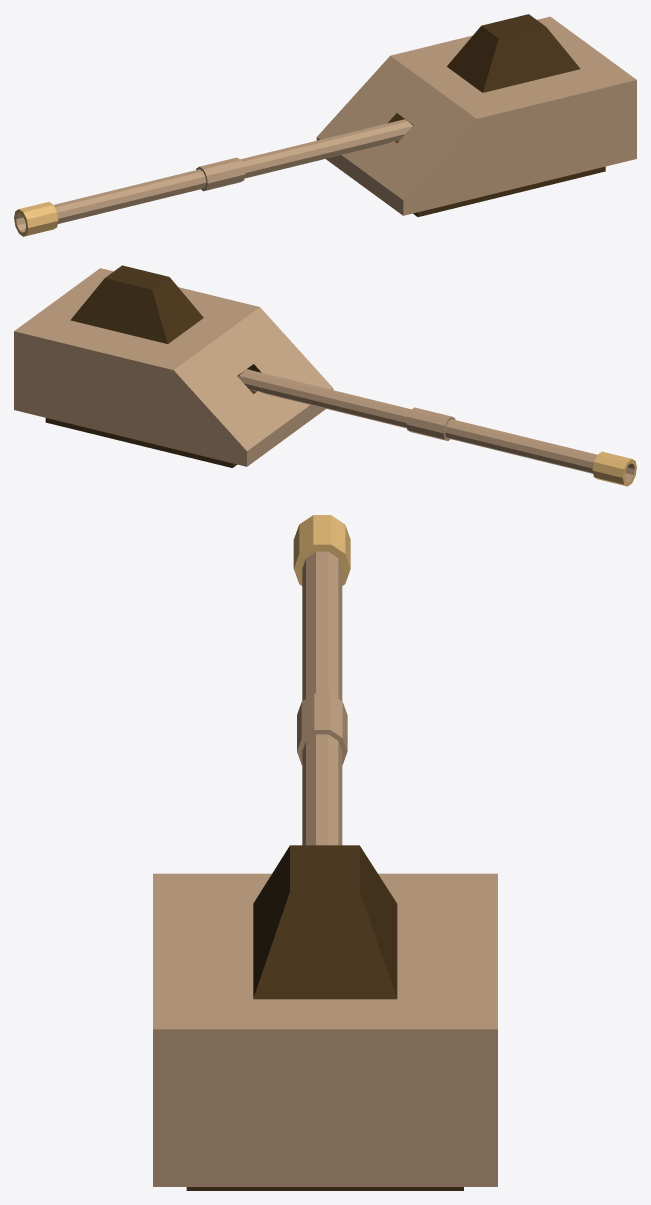
Rendered from TankTurret.fbx.
3 views of the same model, one above another, from view 1: azimuth 30°, elevation 25°; view 2: azimuth 150°, elevation 25°; view 3: azimuth 270°, elevation 25° (orthographic). The views are drawn at different scales.
Visible parts, largest first — view 1: TankBody.001; view 2: TankBody.001; view 3: TankBody.001.
Part boxes in pixels (x1,y1,x2,y2): TankBody.001: (14, 14, 636, 236); TankBody.001: (14, 265, 636, 486); TankBody.001: (153, 515, 497, 1190).
Bounding box in the file's own units: 655 × 146 × 171.
